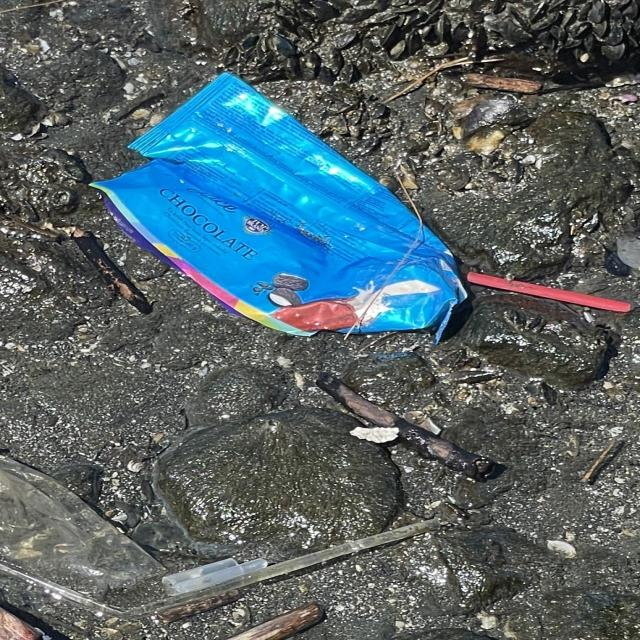plastic_waste: (96, 74, 469, 342)
